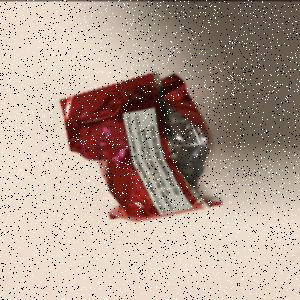Trash: (58, 70, 224, 223)
